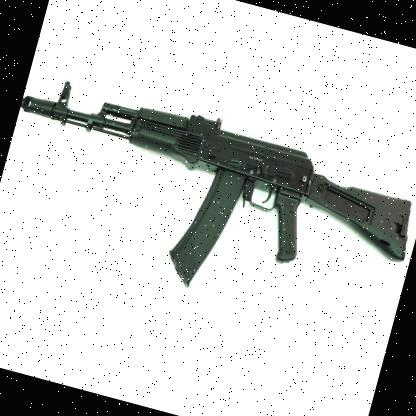rifle: (0, 40, 416, 347)
